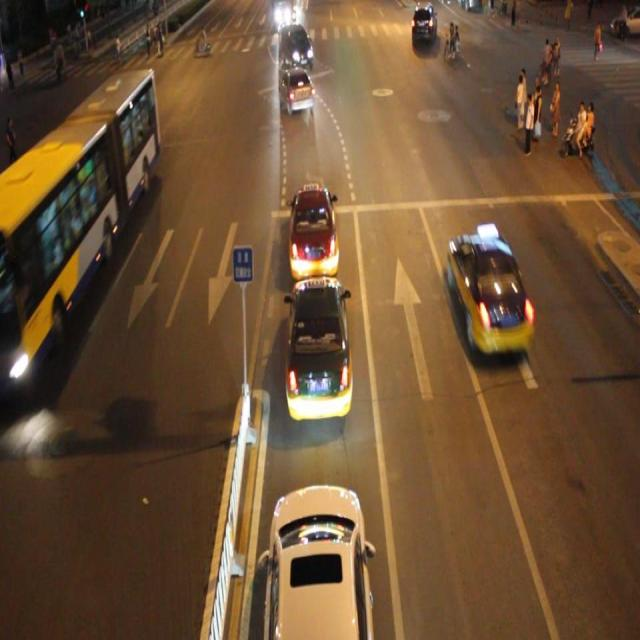car: (259, 479, 375, 640), (447, 234, 534, 357), (282, 274, 354, 422), (285, 182, 343, 280), (278, 67, 314, 113), (280, 23, 313, 68), (410, 1, 436, 44)
van: (0, 69, 158, 388)
